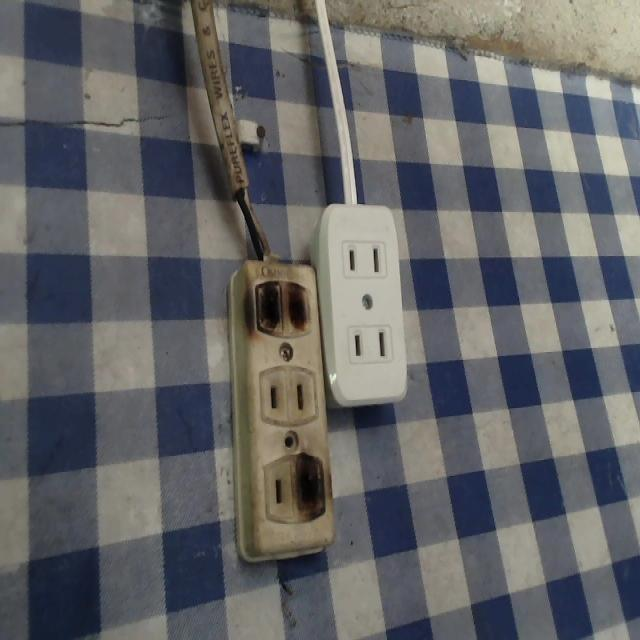-: (248, 273, 321, 339), (289, 449, 332, 523)
